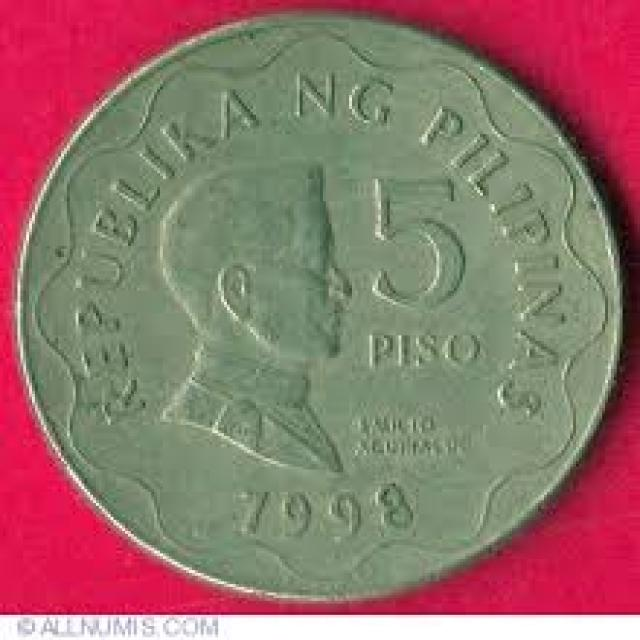5 peso-old: (12, 8, 640, 609)
